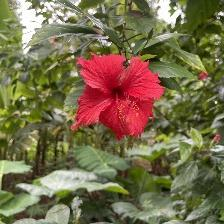hibiscus: (71, 48, 165, 142)
